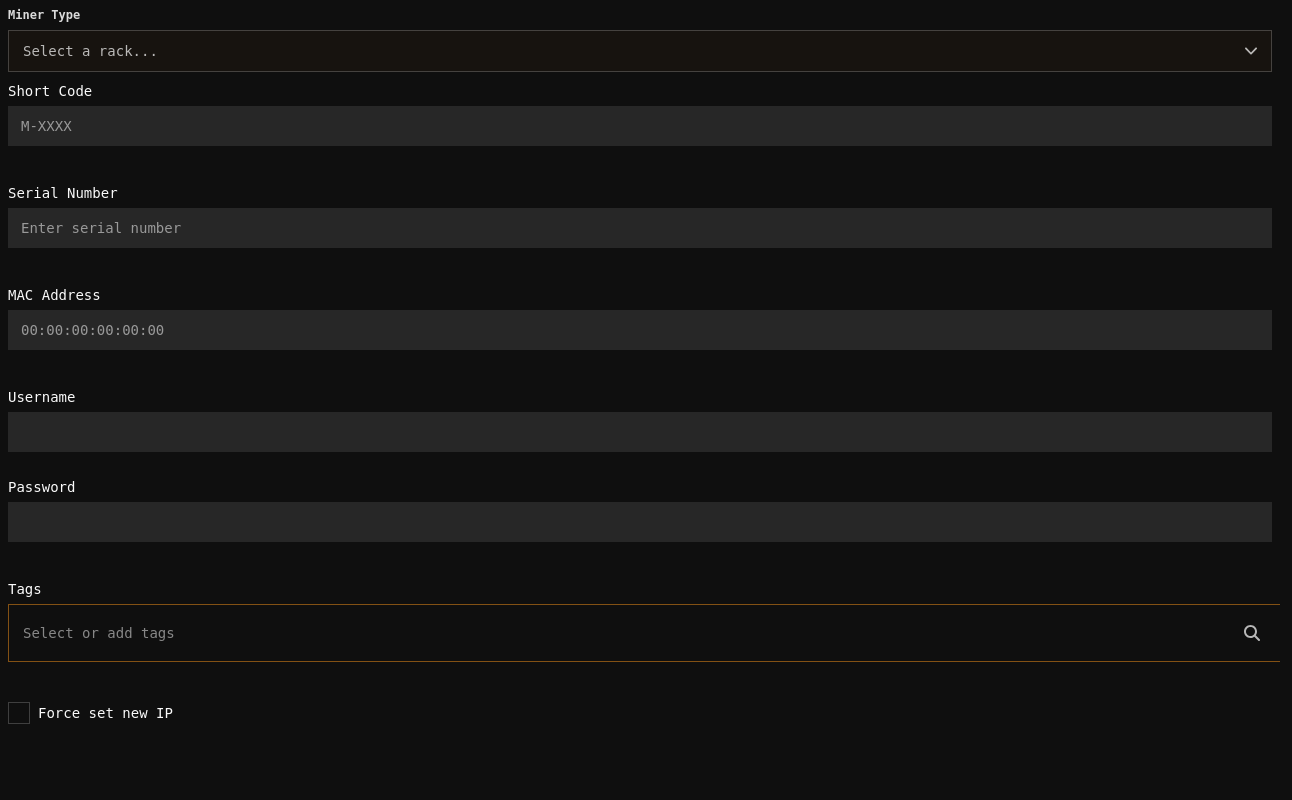
AddReplaceMinerDialogContent › form validation › shows error when miner type is not selected on submit
Type "SN-001" into the field named "serial number" at (640, 126), box [8,106,1272,146]
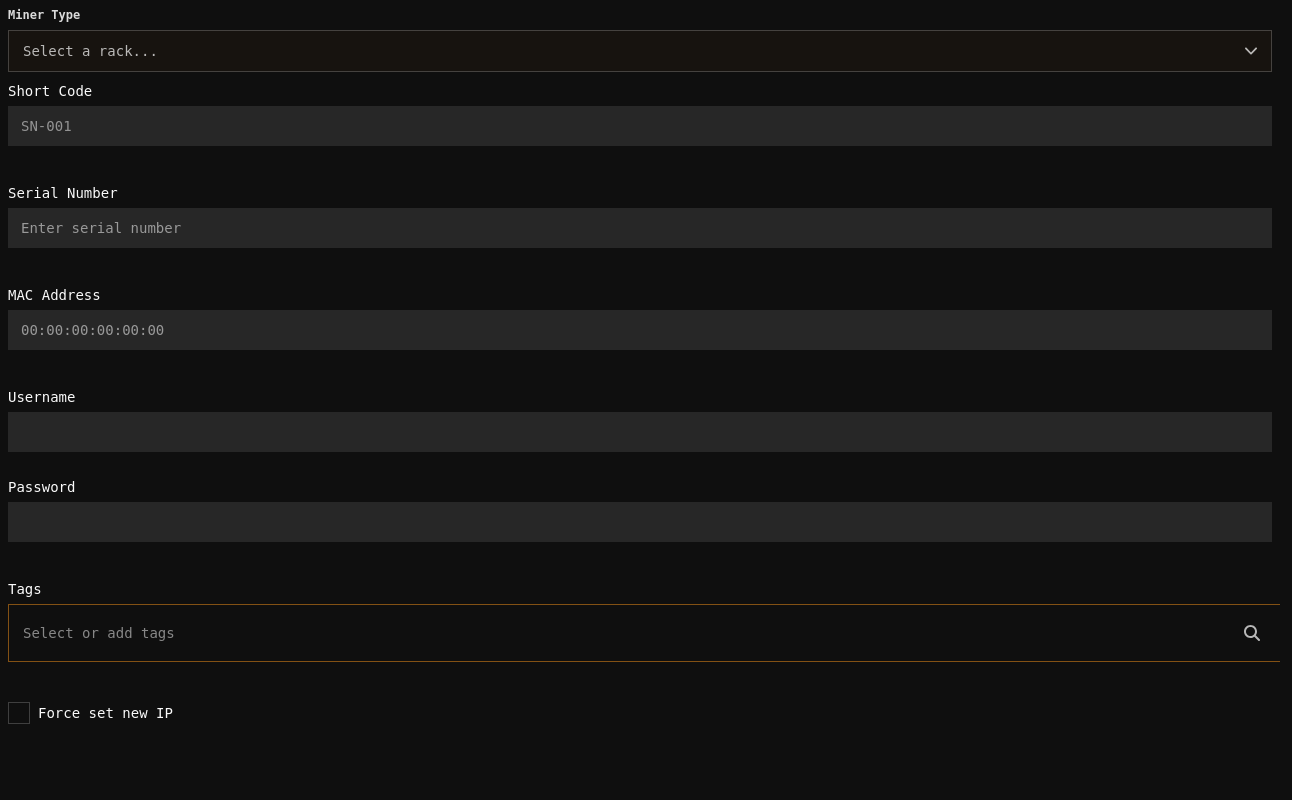
Replace the text in the field named "mac address" with "AABBCCDDEEFF" at (640, 126), box [8,106,1272,146]
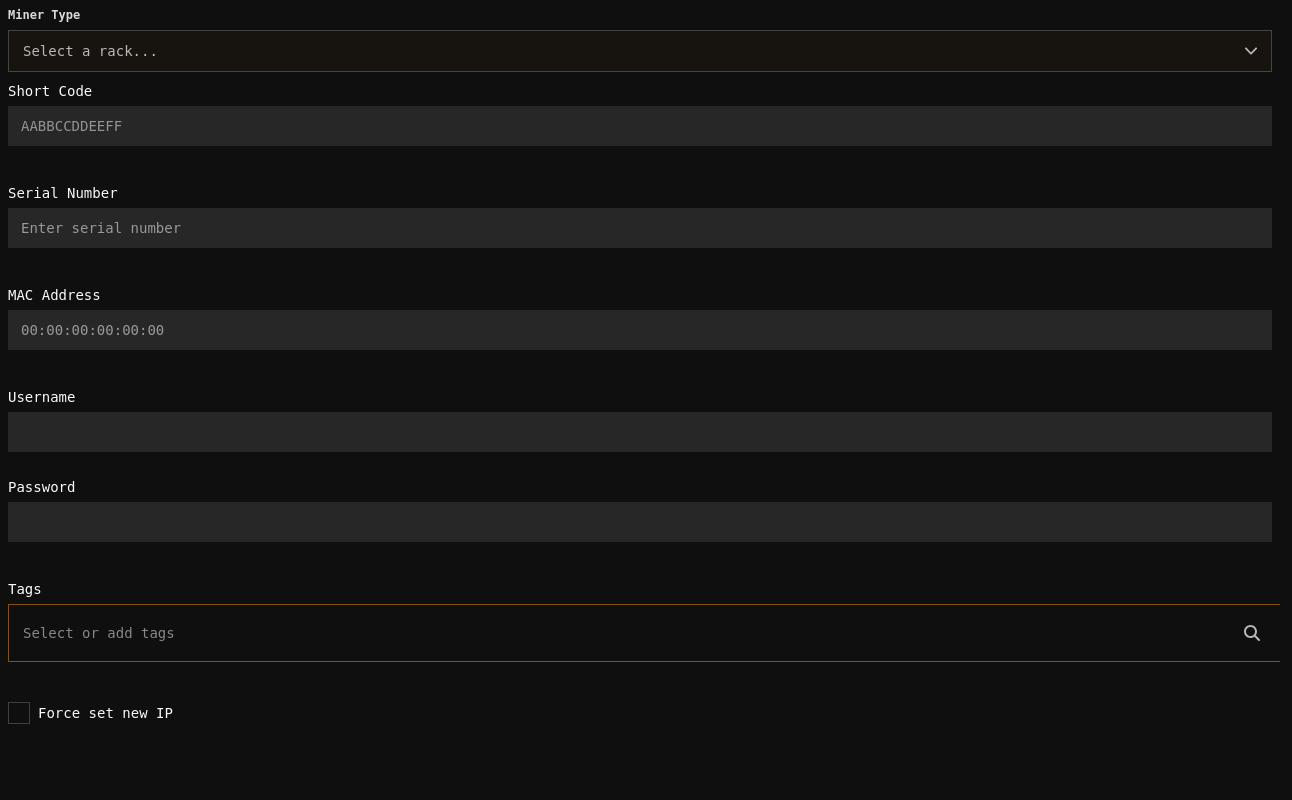
Replace the text in the field labelled "Short Code" with "M-001" at (640, 126), box [8,106,1272,146]
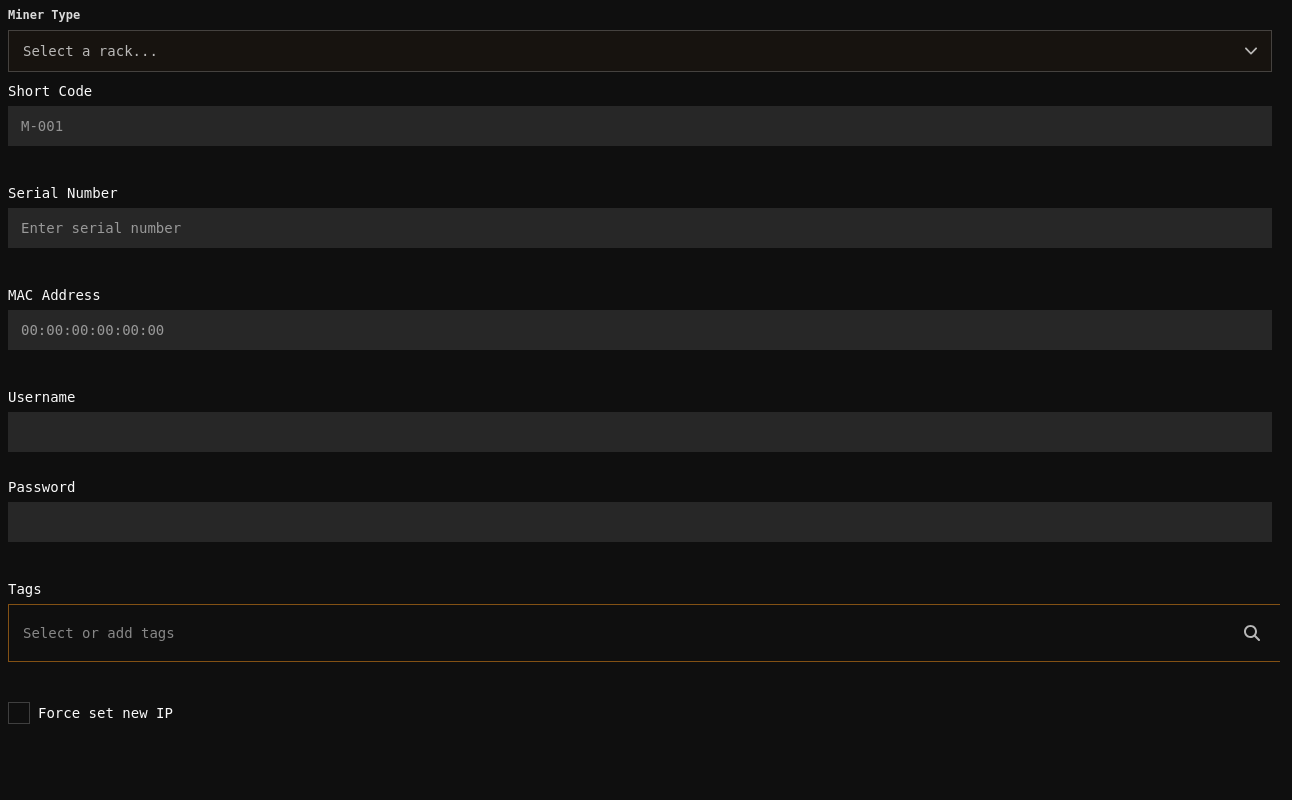
Replace the text in the field named "username" with "admin" at (640, 126), box [8,106,1272,146]
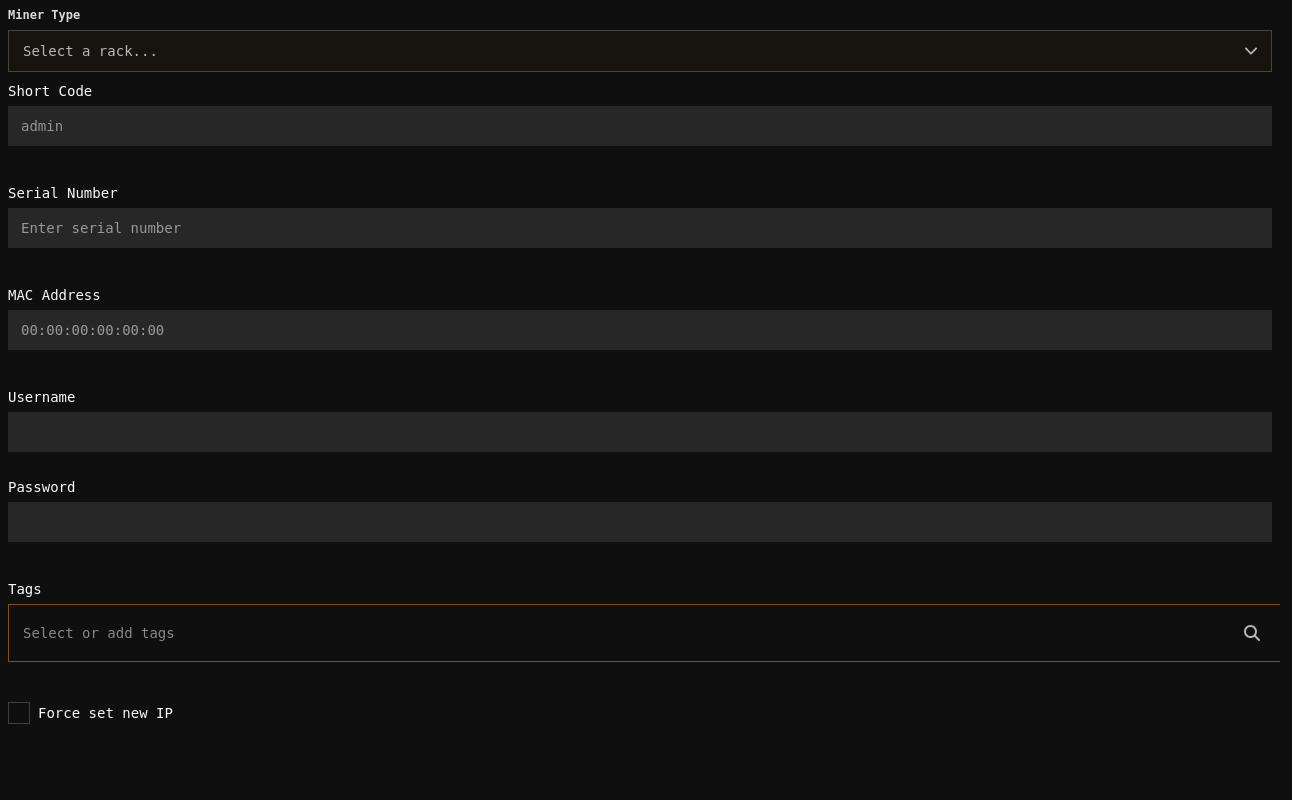
Replace the text in the field named "password" with "secret" at (640, 126), box [8,106,1272,146]
(page scrolled)
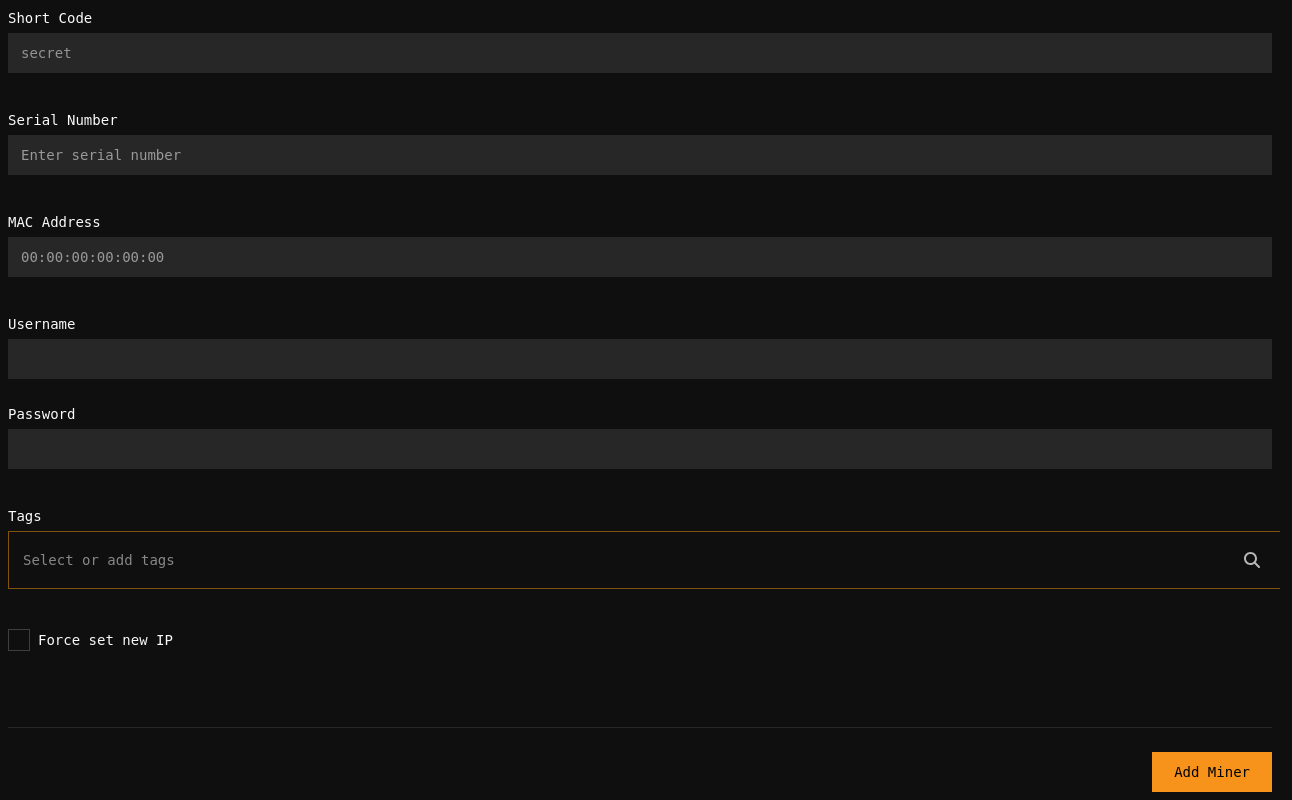
Click the button "Add Miner" at (1212, 772), box [1152,752,1272,792]
(page scrolled)
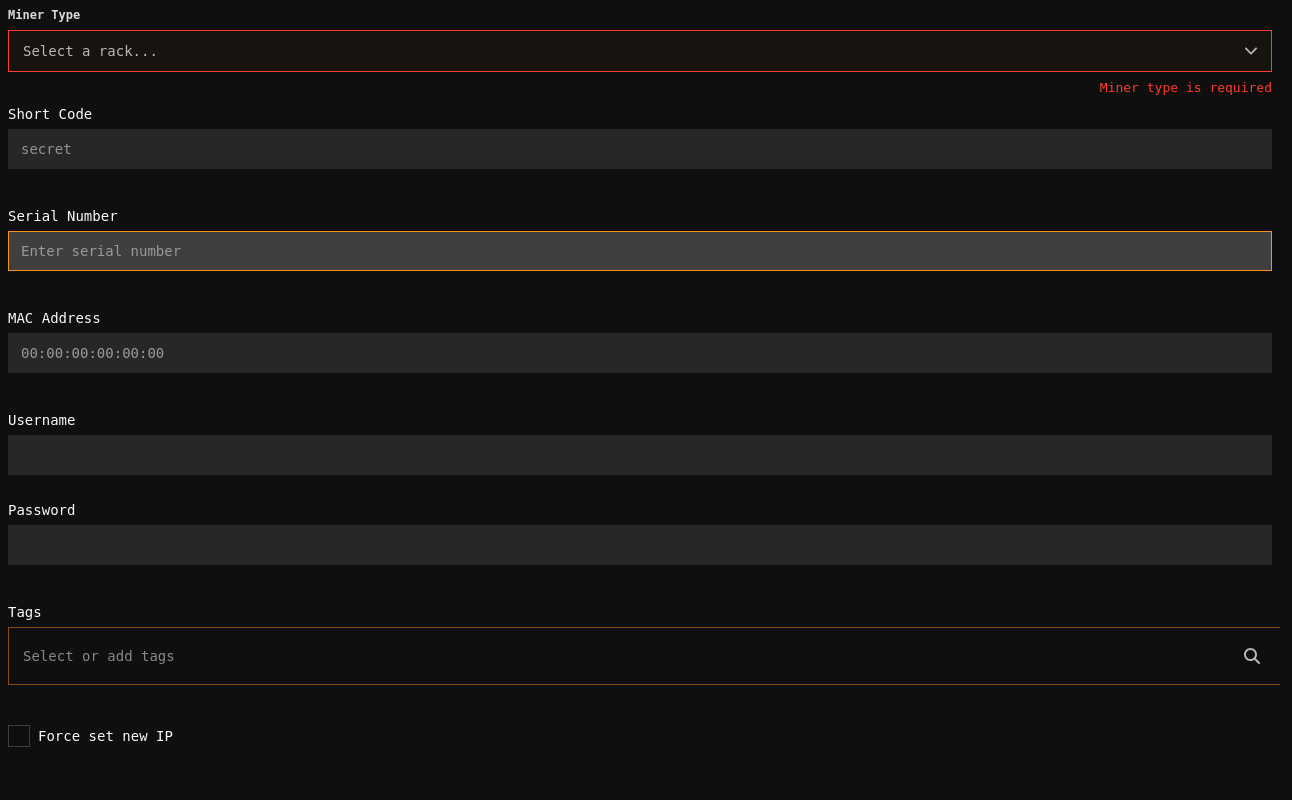
expect the text "Miner type is required" is shown: met, box [1100,80,1272,95]
